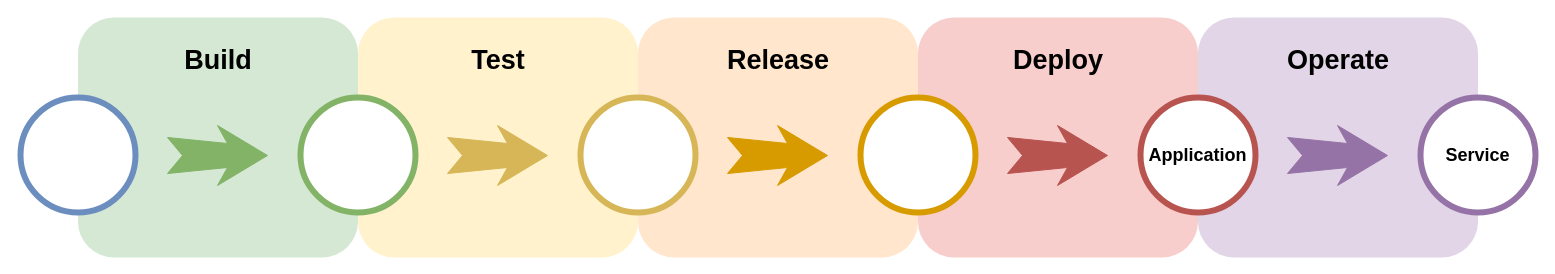
The diagram is 1555 pixels wide and 274 high, and some of its shapes have lost their labels. The centre of each missing label's shape, as x and y in pixels:
"Binaire" belongs at pixel 357 154.
"Code" belongs at pixel 77 154.
"Livrables" belongs at pixel 917 154.
"Qualité" belongs at pixel 637 154.
